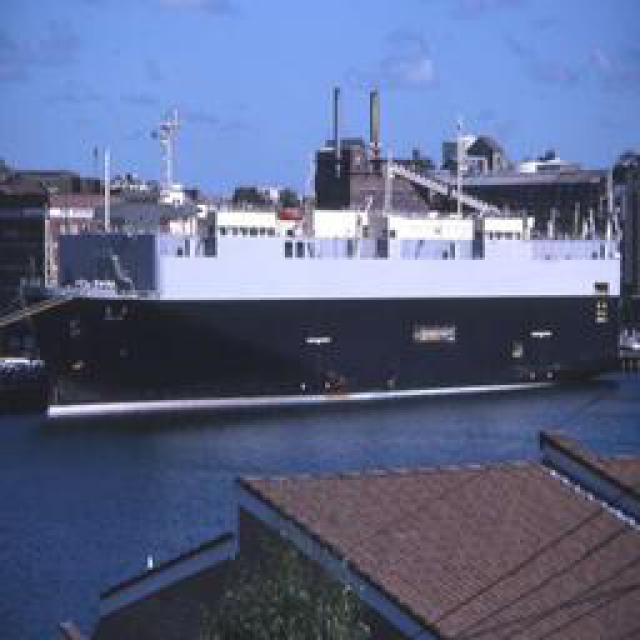Ship: (11, 72, 626, 392)
